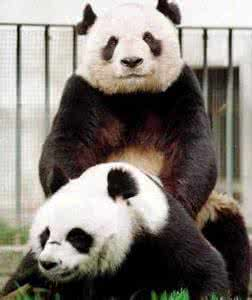panda: (41, 3, 222, 208), (1, 160, 237, 295)
